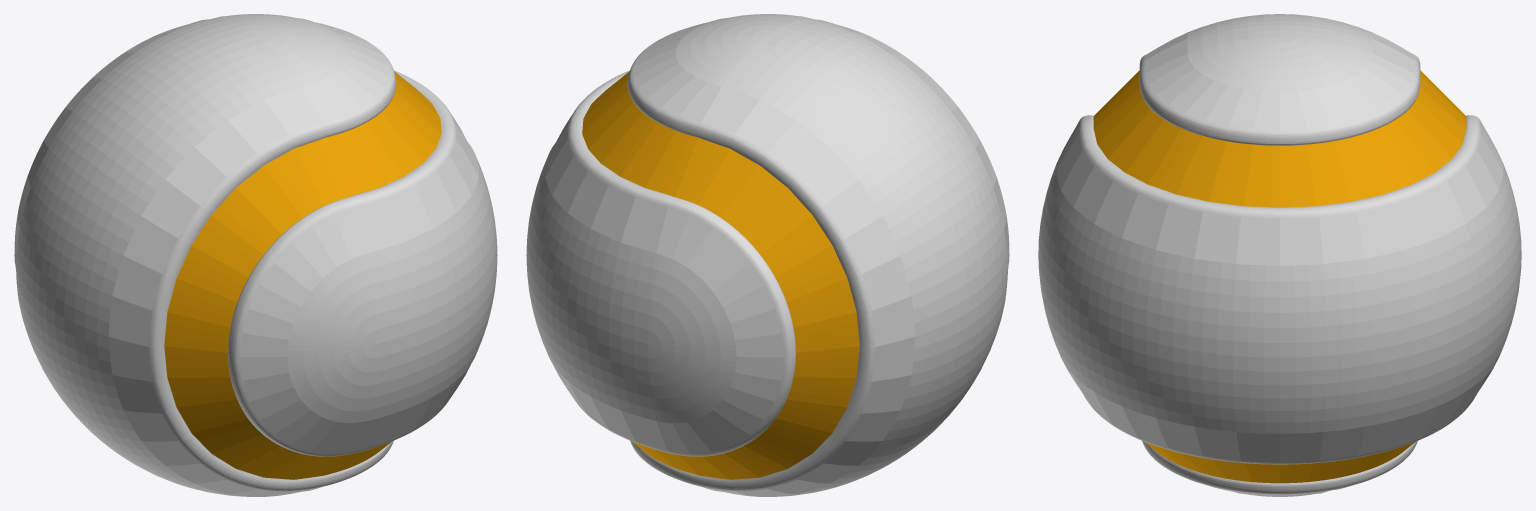
Rendered from TennisBall 1.fbx.
The picture shows the model from 3 angles, left to right: view 1: azimuth 30°, elevation 25°; view 2: azimuth 150°, elevation 25°; view 3: azimuth 270°, elevation 25°; orthographic projection.
Visible parts, largest first — view 1: Sphere; view 2: Sphere; view 3: Sphere.
Boxes of the visible parts, box(x1,y1,x2,y2) form: Sphere: box(14, 14, 497, 496); Sphere: box(526, 14, 1009, 496); Sphere: box(1038, 14, 1521, 496).
Size of the model in its own units: 200 by 200 by 200.
